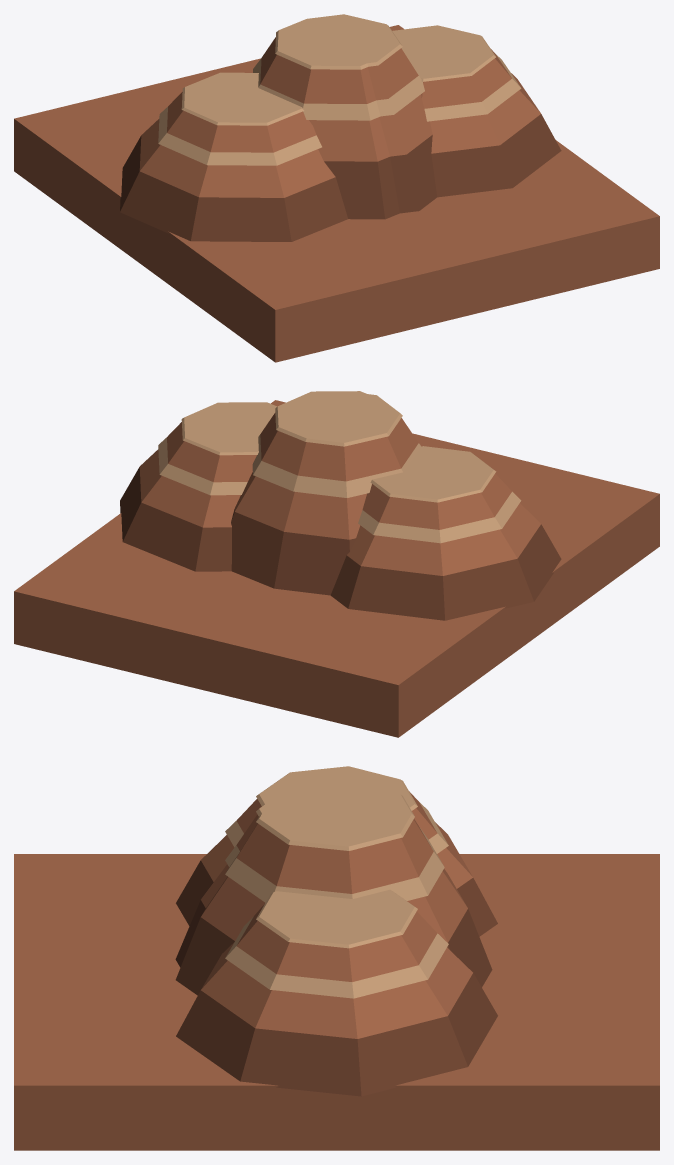
Rendered from Desert_MineRoof_Simple.glb.
The picture shows the model from 3 angles, top to bottom: view 1: azimuth 30°, elevation 25°; view 2: azimuth 150°, elevation 25°; view 3: azimuth 270°, elevation 25°; orthographic projection. The views are drawn at different scales.
Visible parts, largest first — view 1: Desert_MineRoof_Simple; view 2: Desert_MineRoof_Simple; view 3: Desert_MineRoof_Simple.
Boxes of the visible parts, box(x1,y1,x2,y2) form: Desert_MineRoof_Simple: box(14, 14, 659, 362); Desert_MineRoof_Simple: box(14, 391, 659, 737); Desert_MineRoof_Simple: box(14, 766, 659, 1150).
Bounding box in the file's own units: 5.76 × 2.38 × 6.3.
